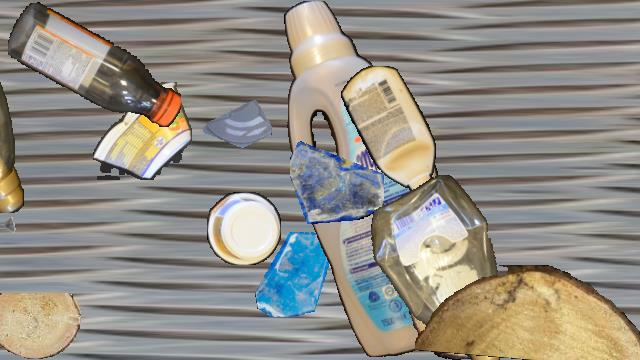glass: (290, 130, 384, 224), (253, 232, 337, 316), (203, 93, 271, 161)
metal: (405, 150, 467, 212), (0, 204, 17, 256)
plastic: (282, 1, 486, 357), (366, 175, 512, 359), (8, 1, 180, 129), (341, 66, 435, 194), (93, 82, 191, 180), (207, 192, 281, 264), (0, 1, 25, 213)
wood: (415, 265, 640, 359), (407, 253, 483, 359), (0, 293, 80, 359)
